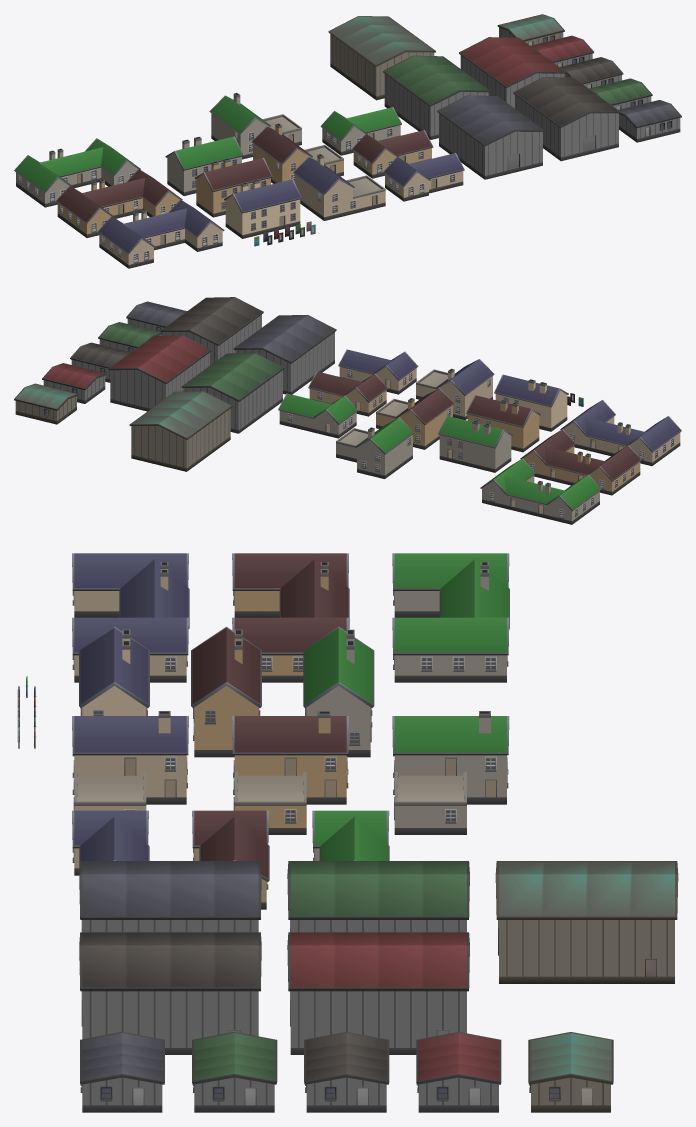
The model's file is building_groups-transformed.glb.
The picture shows the model from 3 angles, top to bottom: view 1: azimuth 30°, elevation 25°; view 2: azimuth 150°, elevation 25°; view 3: azimuth 270°, elevation 25°; orthographic projection. The views are drawn at different scales.
Parts seen in each view (by area): view 1: Object_2, Object_3; view 2: Object_2, Object_3; view 3: Object_2, Object_3.
Part boxes in pixels (<box>): Object_2: <box>14,14,681,268</box>; Object_3: <box>19,36,671,259</box>; Object_2: <box>14,297,681,524</box>; Object_3: <box>45,327,672,515</box>; Object_2: <box>17,553,678,1112</box>; Object_3: <box>94,658,559,1098</box>.
Size of the model in its own units: 154 by 11.5 by 82.47.
2 materials, 1 textured.
